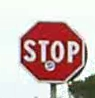stop: (19, 19, 85, 83)
